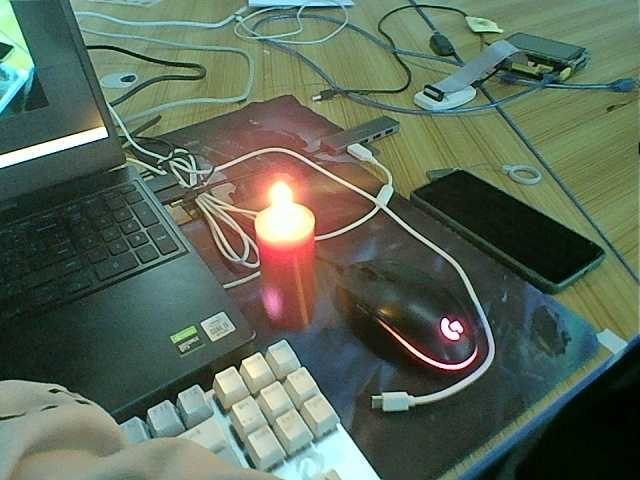candle: (240, 211, 337, 325)
fire: (254, 178, 317, 237)
